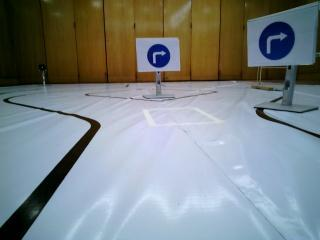right: (247, 19, 311, 63), (134, 39, 180, 69)
